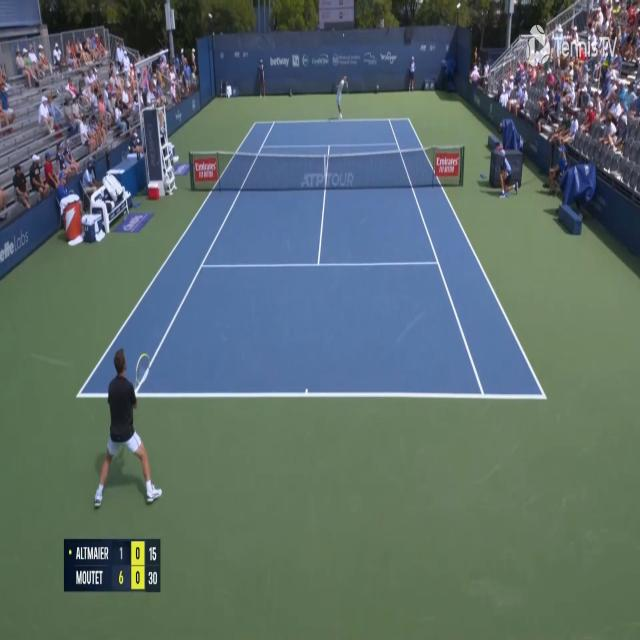tennis-player: (78, 276, 168, 514), (336, 74, 350, 119)
